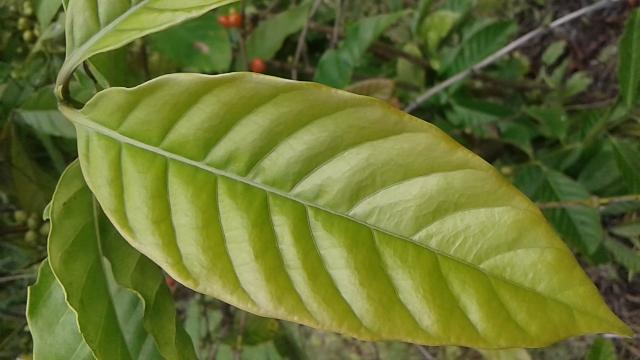healthy: (73, 69, 634, 346)
